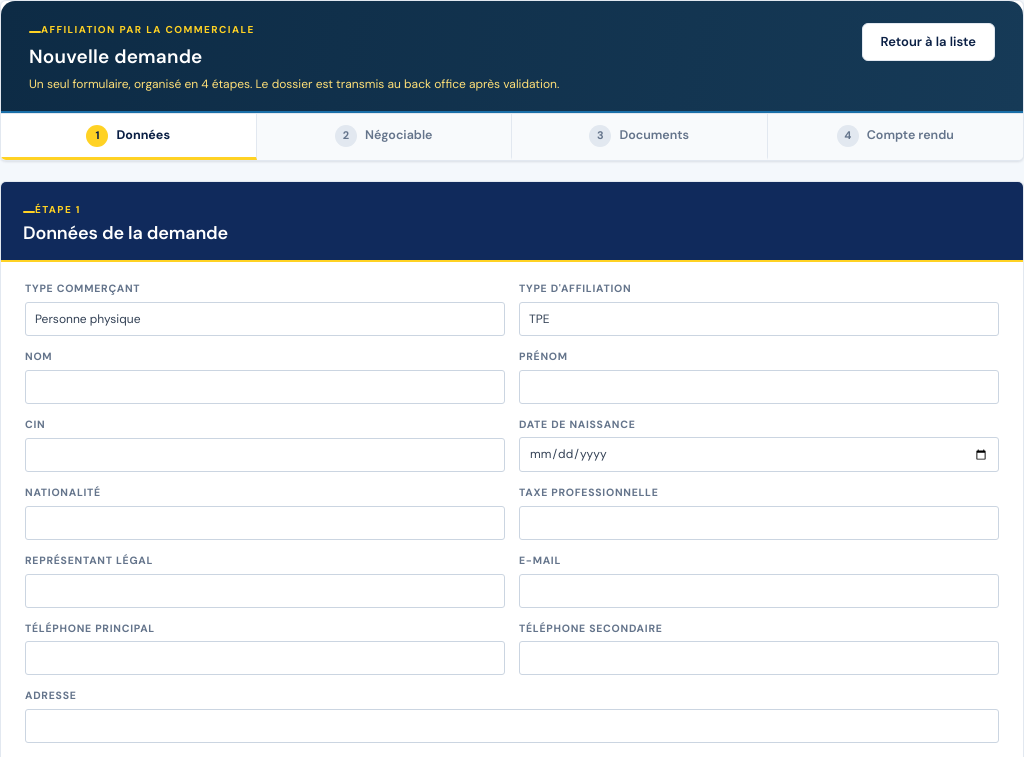
Test: CommercialDossierCreatePage › passe a l'onglet Negociable au clic sur son onglet
What coordinates should you click on to do the following:
click the button "2 Négociable"
I would click on:
 (384, 137)
Its box is [256,114,512,160].
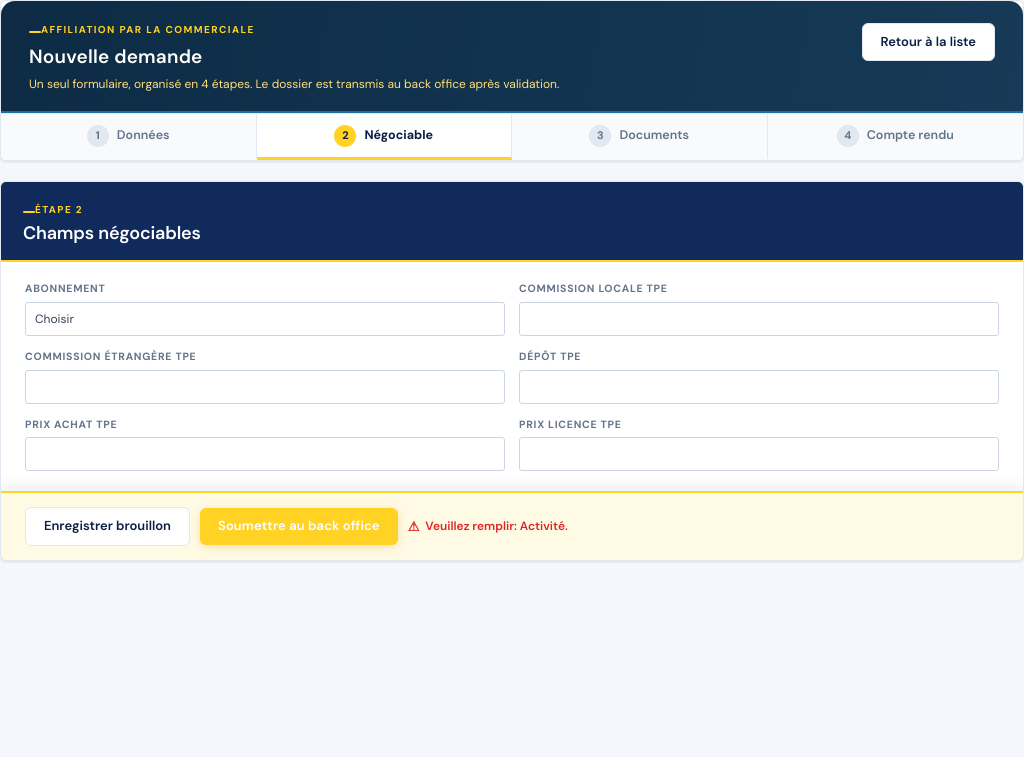
Now the heading "Champs négociables" is shown, box [23,221,201,246]
